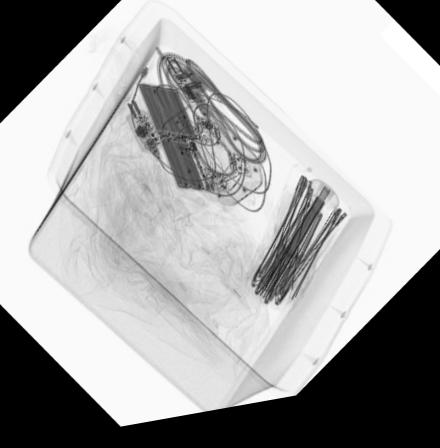Powerbank: (135, 85, 219, 200)
